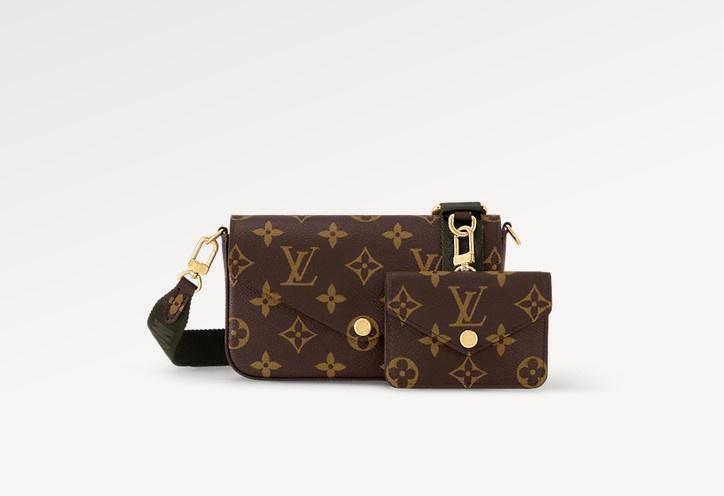LOUIS-VUITTON: (229, 215, 550, 391)
